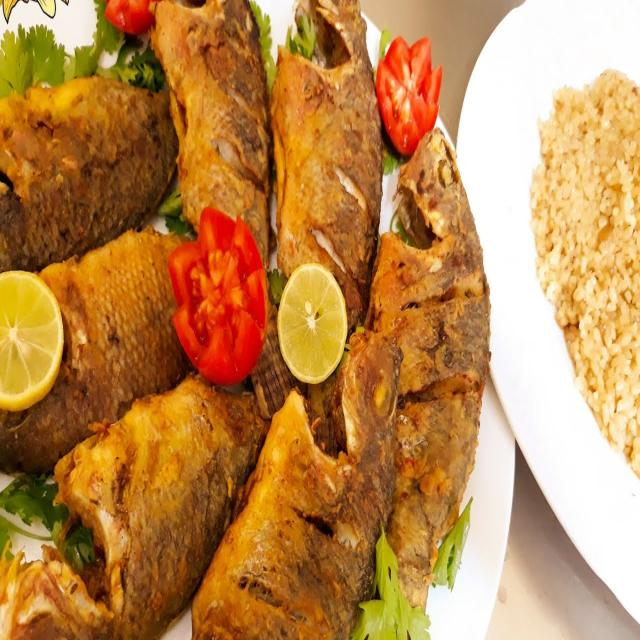Peixe: (1, 1, 492, 637), (1, 371, 269, 638), (190, 328, 403, 638), (364, 126, 492, 614), (1, 223, 190, 476), (269, 1, 383, 330), (1, 73, 179, 273), (149, 0, 271, 272)
